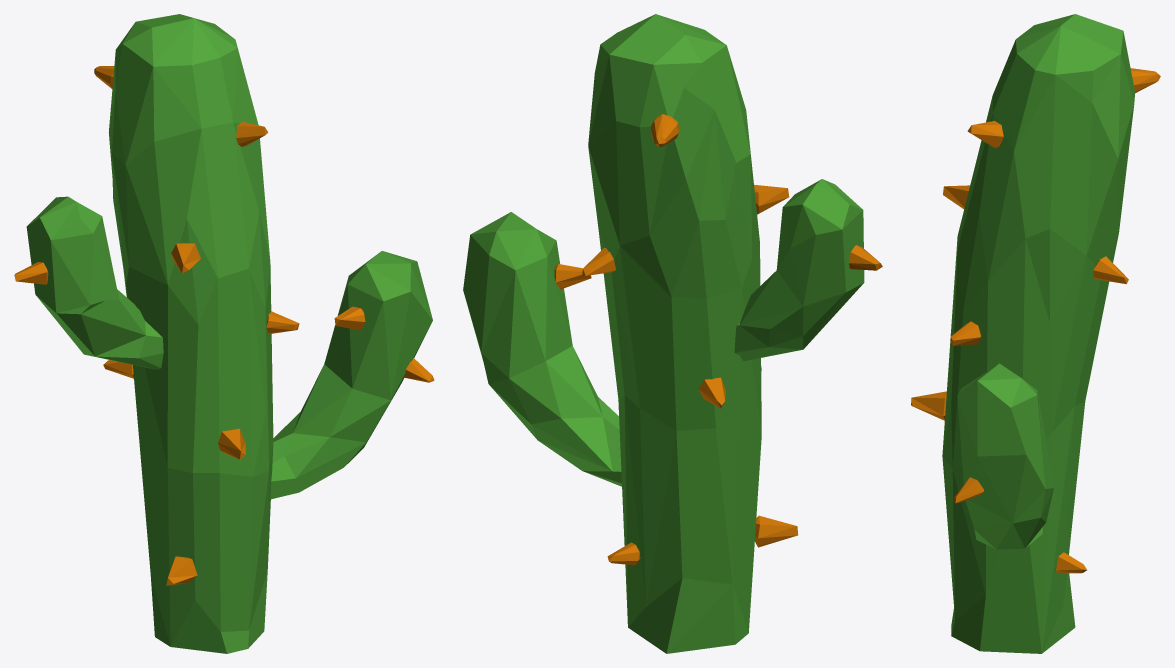
File: cactus.glb
3 views of the same model, side by side, from view 1: azimuth 30°, elevation 25°; view 2: azimuth 150°, elevation 25°; view 3: azimuth 270°, elevation 25° (orthographic). The views are drawn at different scales.
Visible parts, largest first — view 1: cactus; view 2: cactus; view 3: cactus.
Part boxes in pixels (x1,y1,x2,y2): cactus: [14, 14, 434, 653]; cactus: [463, 14, 882, 653]; cactus: [911, 14, 1160, 653].
Size of the model in its own units: 0.5914 by 0.8479 by 0.3144.
